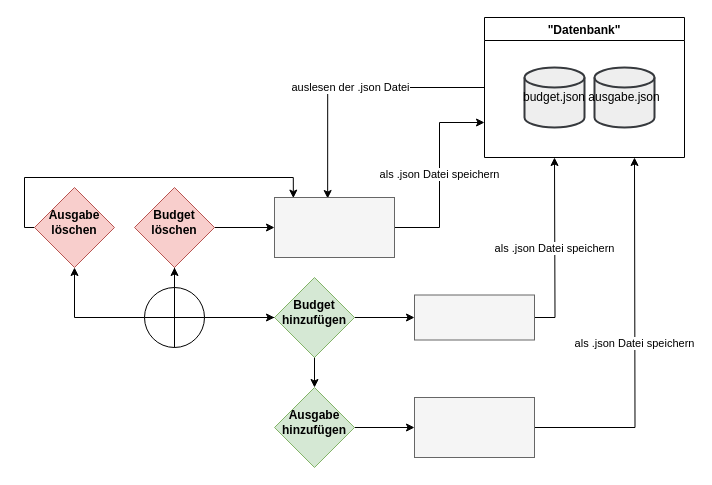
Image size: 712x485. Some labels were removed from this diagram. The shapes that lost their labels are listed below. From the top down, each one's centre as x and y in pixels, then its label:
point 334,227: Anwählen des zu löschenden Elements
point 474,317: Bezeichnung und Betrag erfassen
point 474,427: Bezeichnung, Betrag, Datum und Kategorie erfassen
